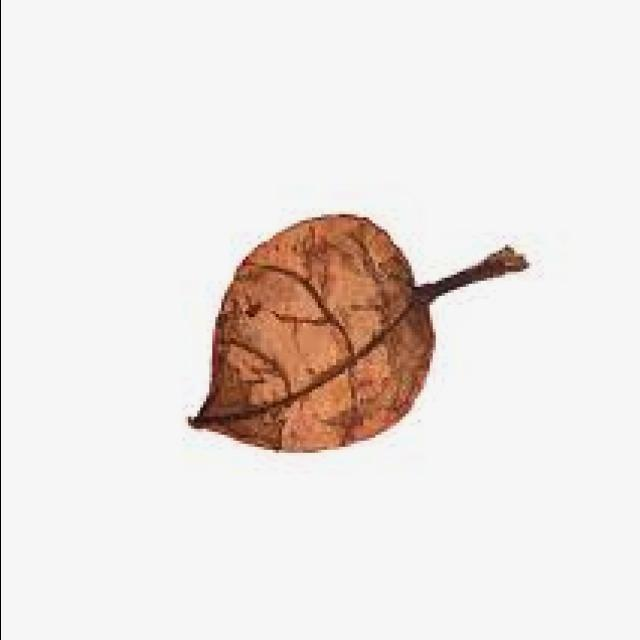leaf: (186, 211, 529, 453)
